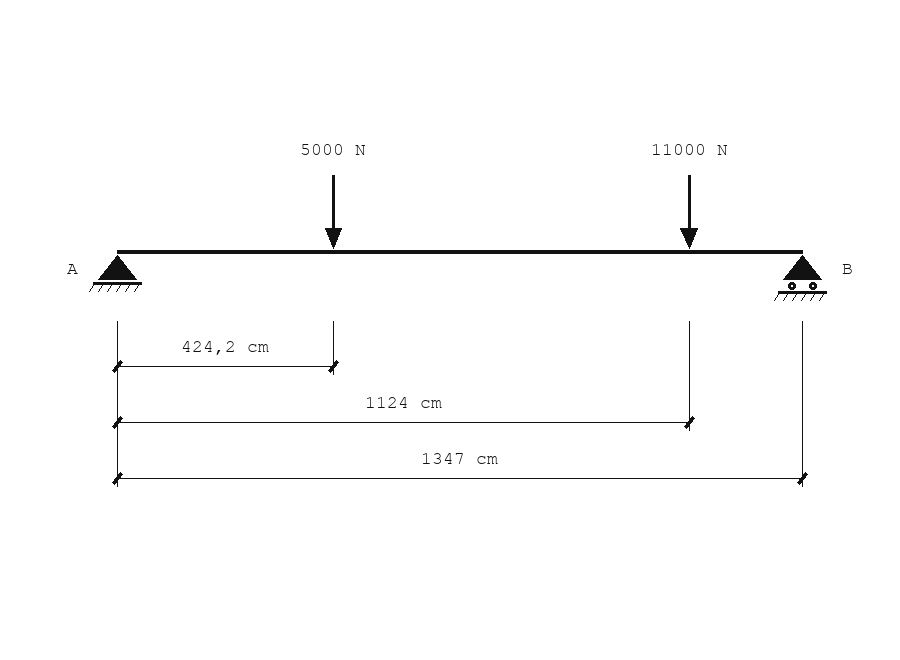pin_support: (89, 255, 142, 292)
point_load: (680, 175, 698, 249), (325, 175, 342, 249)
roller_support: (774, 255, 827, 301)
